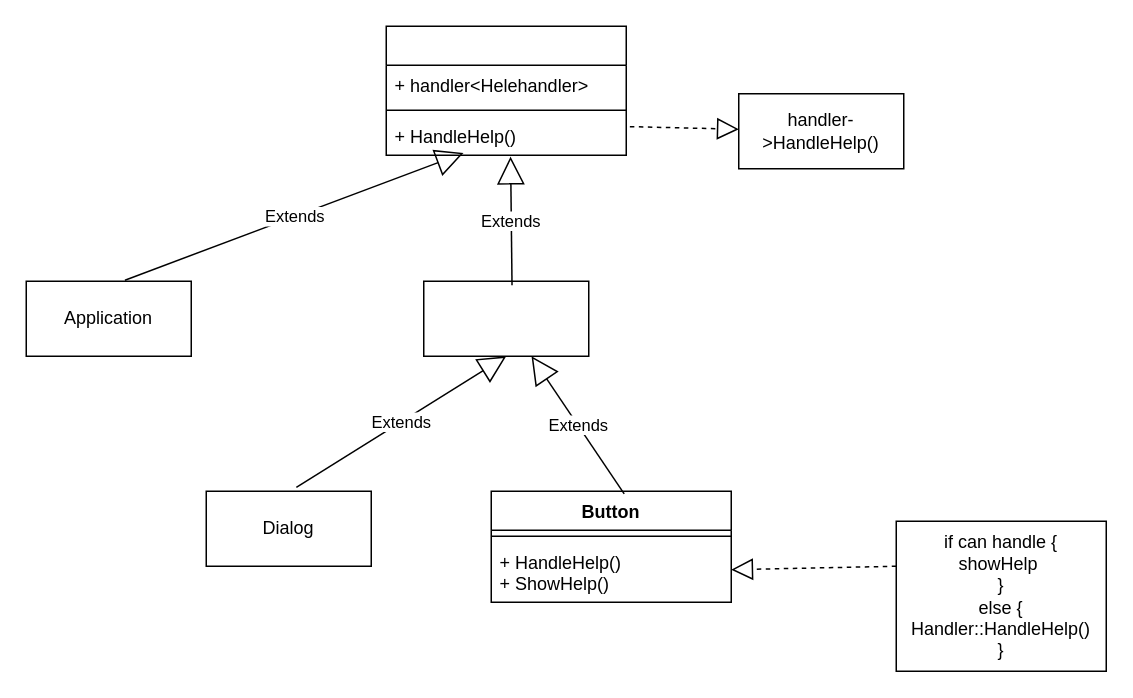
Some shapes in this 1133 by 698 pixel diagram are drawn without their labels. The shapes that lost their labels are listed below. From the top down, each one's box as (x1, y1, x2, y2) in pixels, then its label:
(385, 25, 626, 155): HelpHandler
(422, 280, 589, 356): Widget
